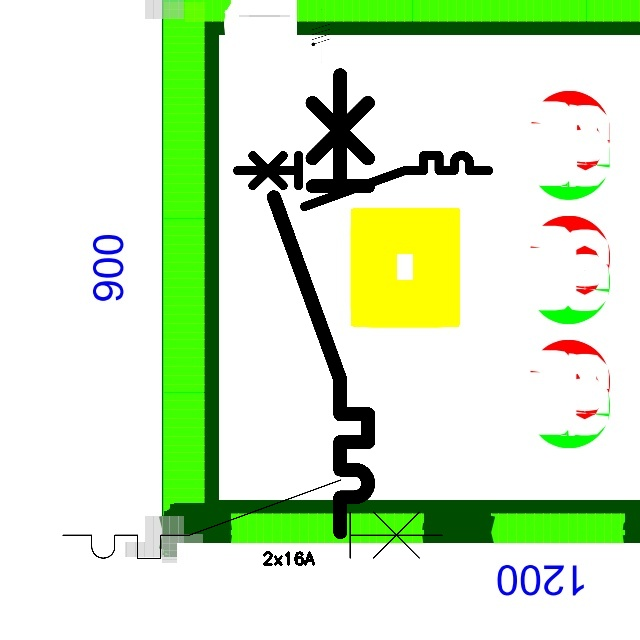interruptor_termomagnetico: (262, 63, 380, 544), (53, 470, 452, 568), (231, 149, 495, 213)
